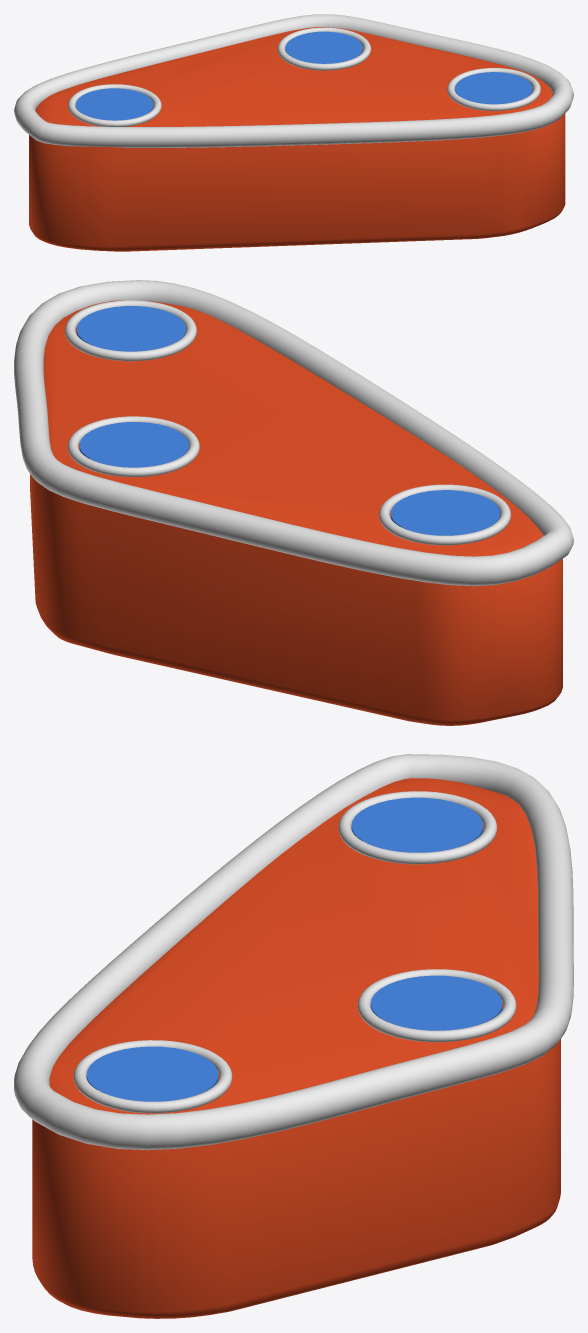
The model's file is Triangular Bouncer.fbx.
3 renders of one model, top to bottom at view 1: azimuth 30°, elevation 25°; view 2: azimuth 150°, elevation 25°; view 3: azimuth 270°, elevation 25°, orthographic. The views are drawn at different scales.
Parts seen in each view (by area): view 1: Cube.010; view 2: Cube.010; view 3: Cube.010.
Part boxes in pixels (x1,y1,x2,y2): Cube.010: (14,14,573,251); Cube.010: (14,280,573,725); Cube.010: (14,754,573,1318).
Bounding box in the file's own units: 121 × 31.99 × 76.32.
